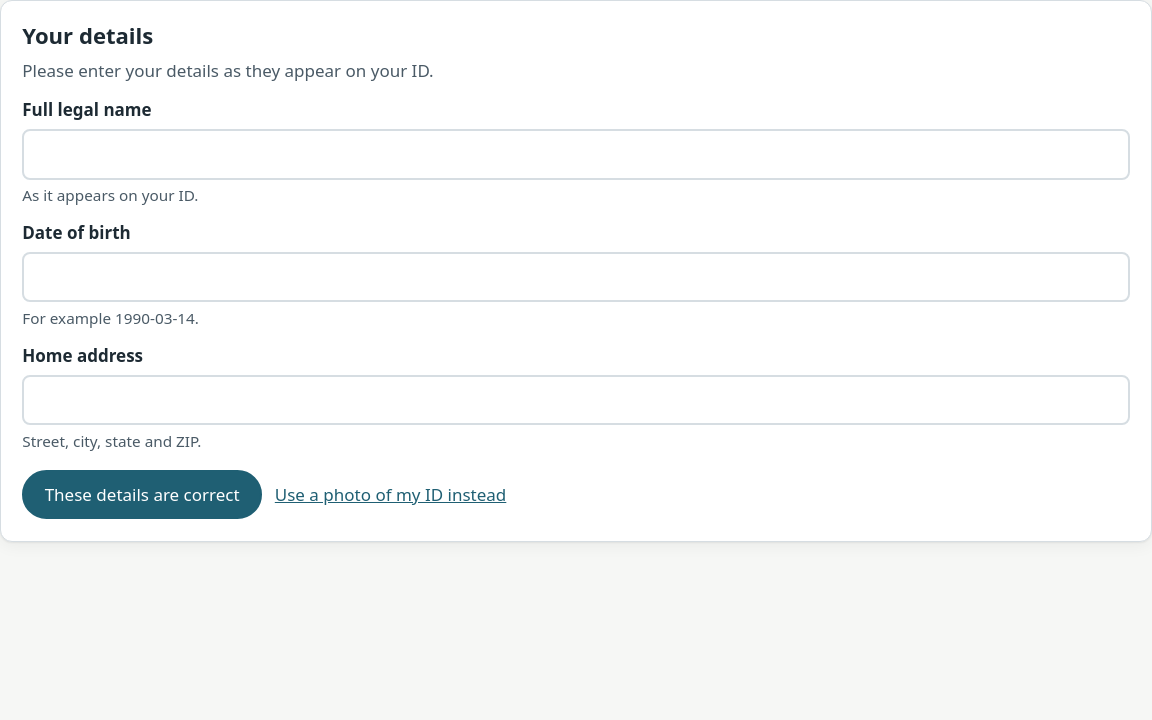
it: IdentityStep › shows field errors from the server, linked to their inputs
Click the button "These details are correct".
click(142, 495)  # box [22,470,262,519]
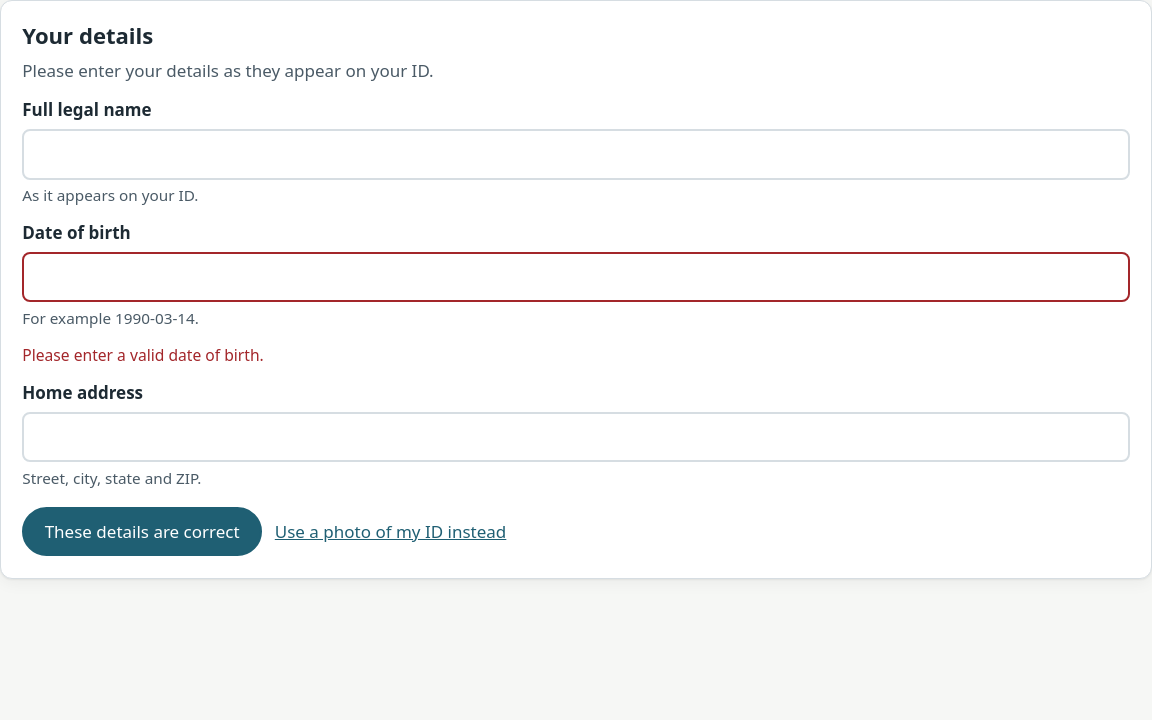
Now the text "Please enter a valid date of birth." is shown, box [22,344,264,366]
